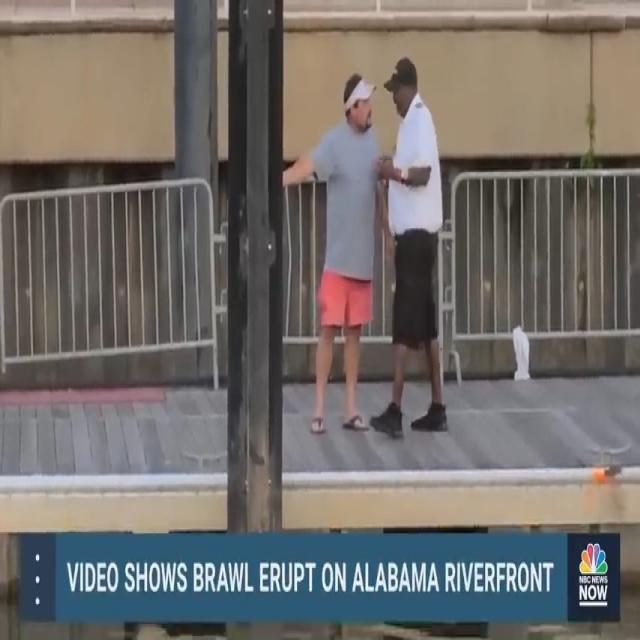non-fight: (283, 51, 458, 442)
